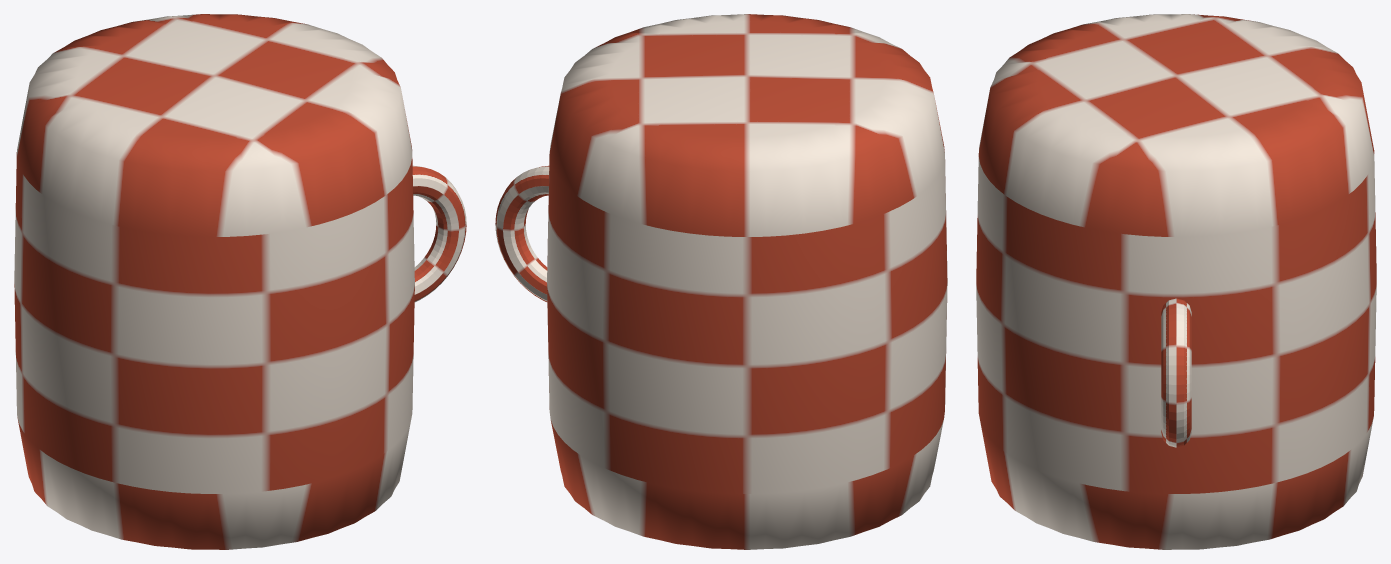
3 views of the same model, side by side, from view 1: azimuth 30°, elevation 25°; view 2: azimuth 150°, elevation 25°; view 3: azimuth 270°, elevation 25° (orthographic).
Visible parts, largest first — view 1: Asset; view 2: Asset; view 3: Asset.
Part boxes in pixels (<box>): Asset: <box>14,14,466,549</box>; Asset: <box>495,14,947,549</box>; Asset: <box>976,14,1376,549</box>.
Bounding box in the file's own units: 0.0966 × 0.0898 × 0.0791.
1 material, 1 textured.
